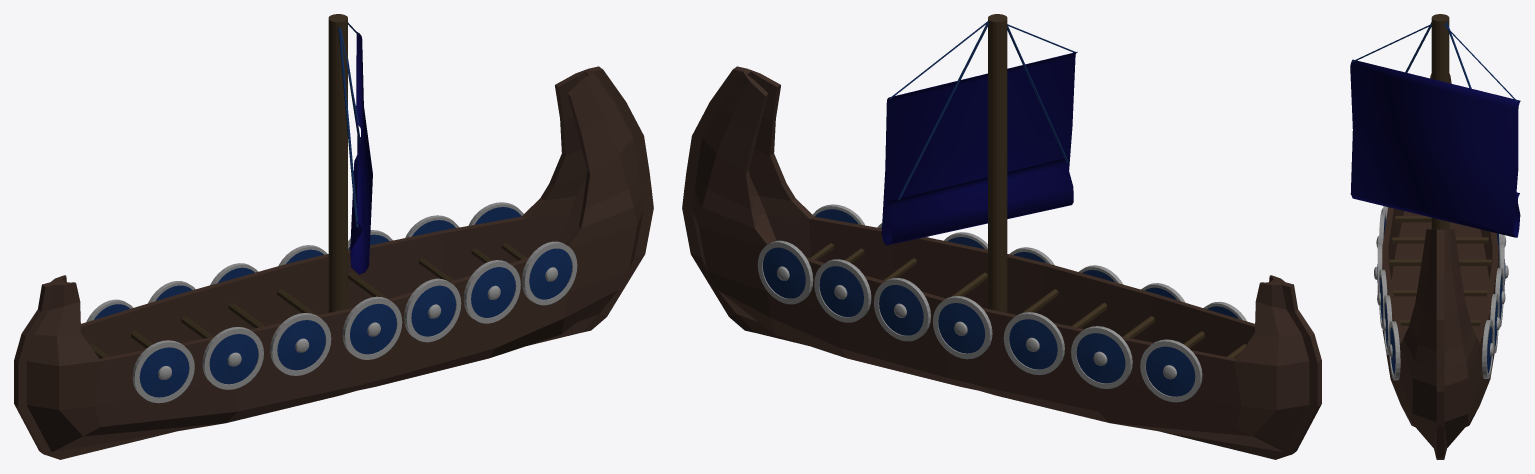
File: Barco.gltf
3 renders of one model, left to right at view 1: azimuth 30°, elevation 25°; view 2: azimuth 150°, elevation 25°; view 3: azimuth 270°, elevation 25°, orthographic. The views are drawn at different scales.
Parts seen in each view (by area): view 1: Barco.001; view 2: Barco.001; view 3: Barco.001.
Boxes of the visible parts, left/top/right/bottom form: Barco.001: left=14, top=14, right=653, bottom=459; Barco.001: left=682, top=14, right=1321, bottom=459; Barco.001: left=1350, top=14, right=1520, bottom=459.
Bounding box in the file's own units: 6.67 × 3.73 × 1.73.
